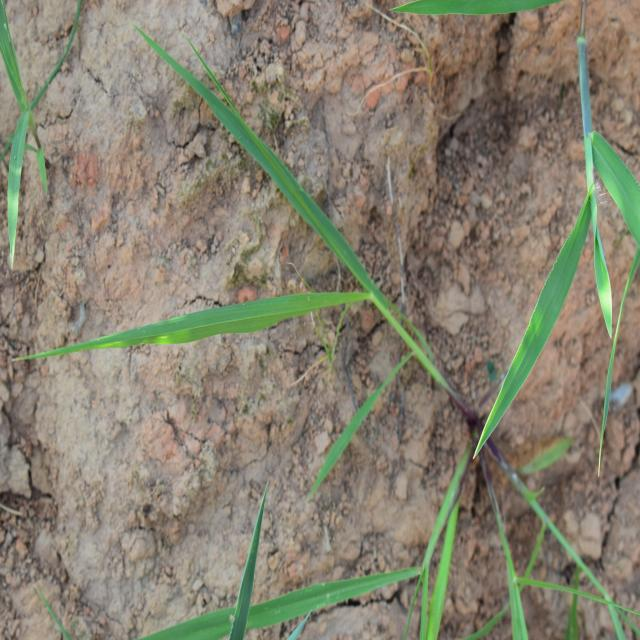green_foxtail: (146, 120, 533, 541)
